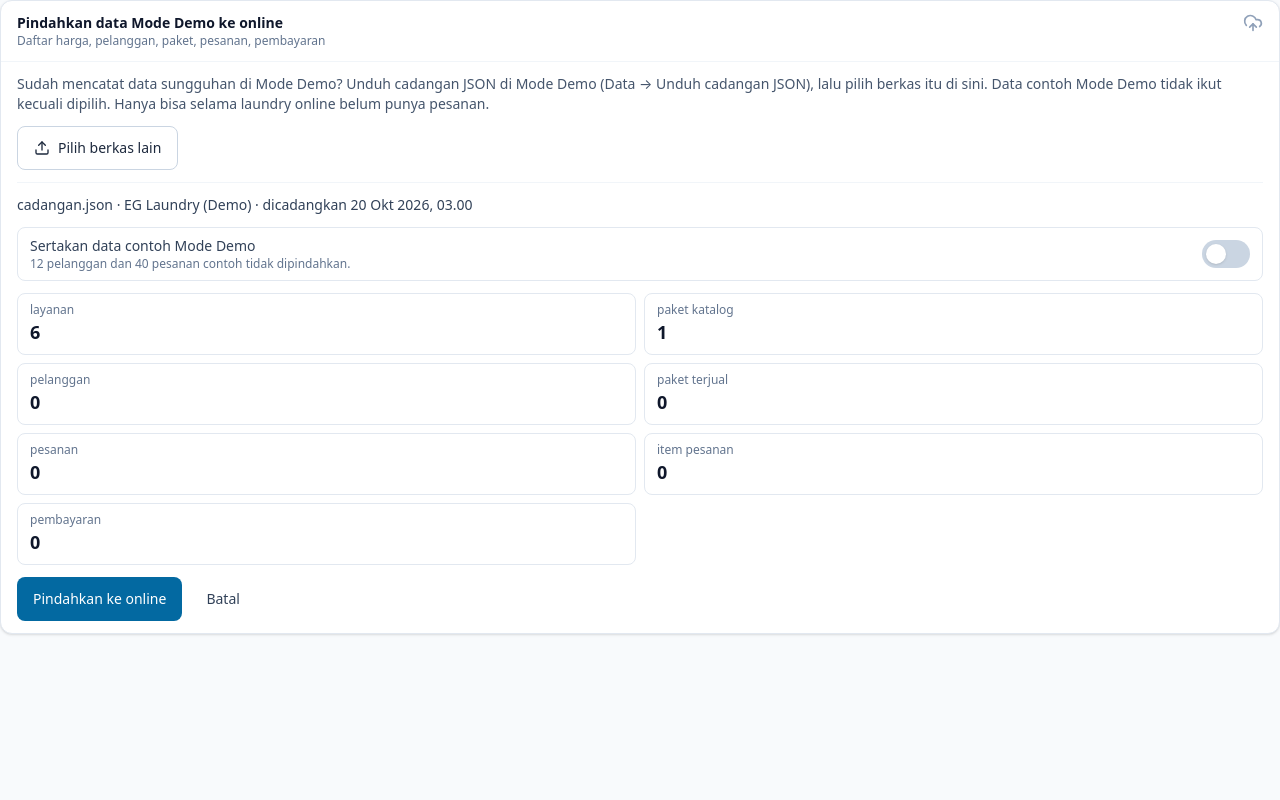
Scenario: DemoImportCard › online without orders: preview, the sample switch, then everything is moved with new ids
Earlier steps of the test are not shown.
Later steps or results of the test are not shown.
Expected: the element with test id "demo-count-services" reads "layanan 6", [17,293,636,355]
Expected: the element with test id "demo-count-orders" reads "pesanan 0", [17,433,636,495]
What coordinates should you click on to do the following:
click the switch labelled "Sertakan data contoh Mode Demo"
I would click on:
 (143, 246)
Its box is [17,227,1263,281].
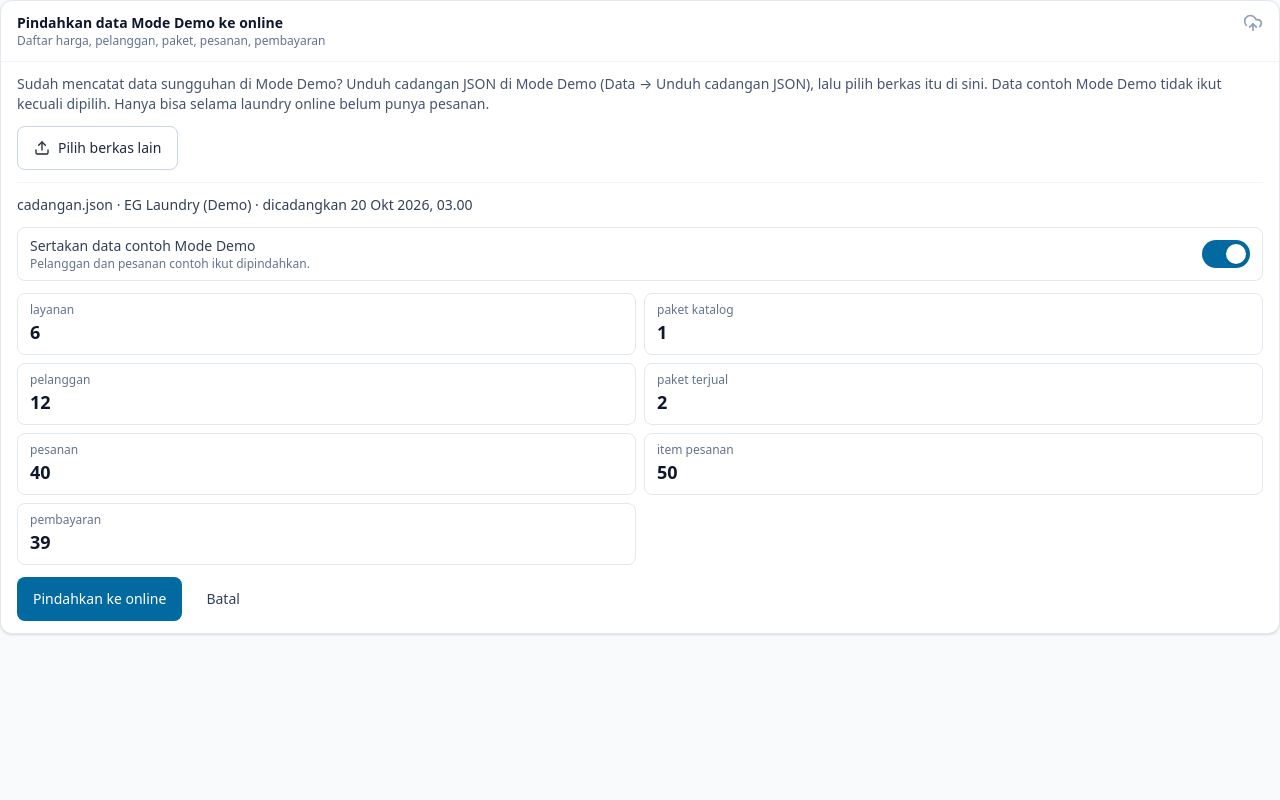
Expected: the element with test id "demo-count-orders" reads "pesanan 40", [17,433,636,495]
